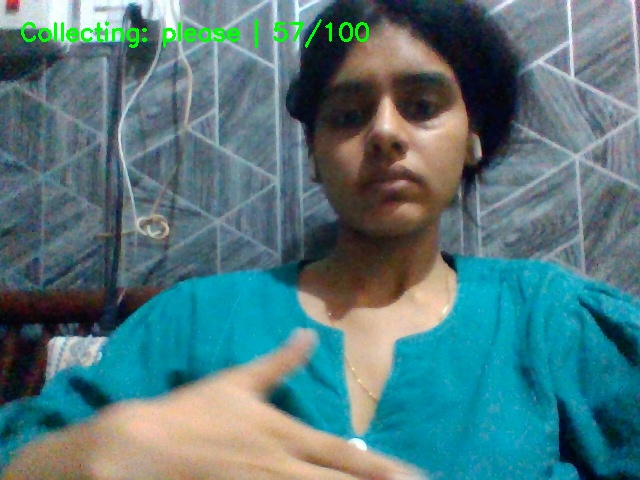please: (115, 318, 455, 480)
